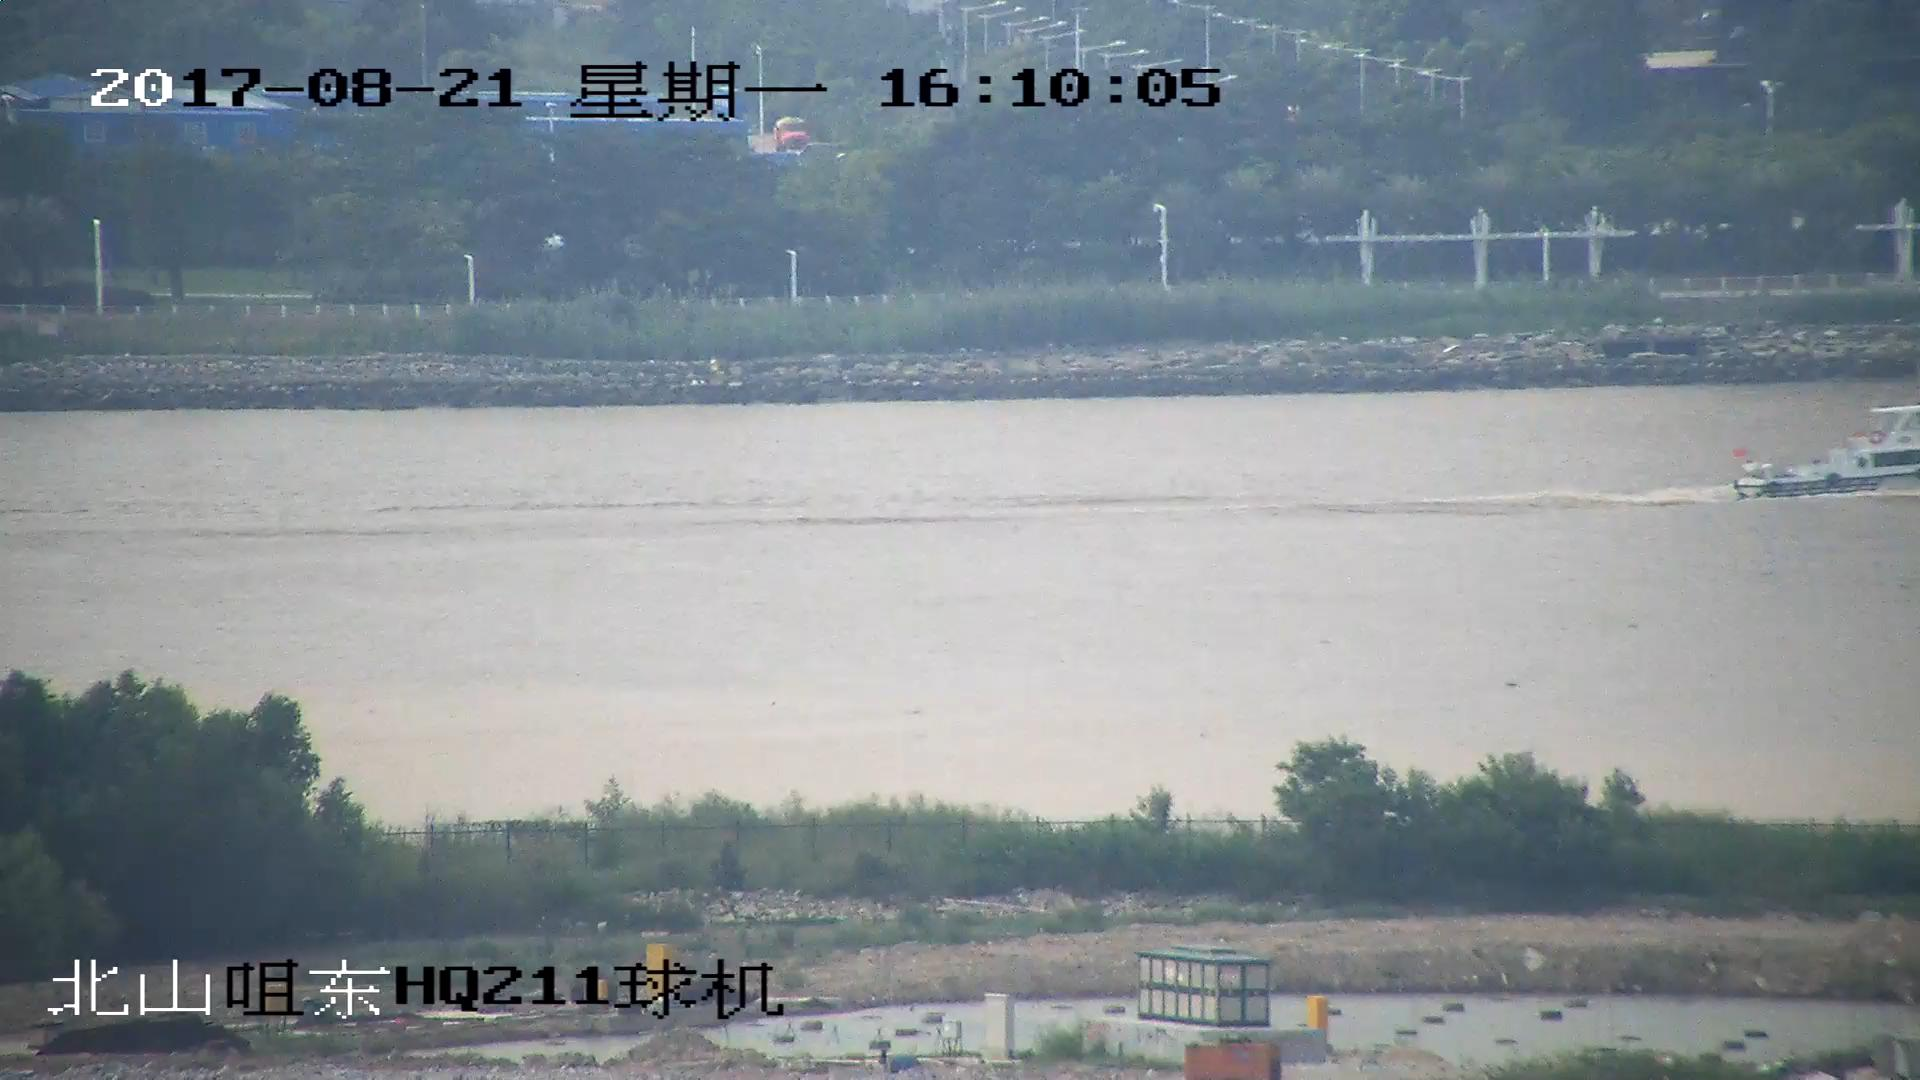passenger ship: (1732, 411, 1920, 495)
